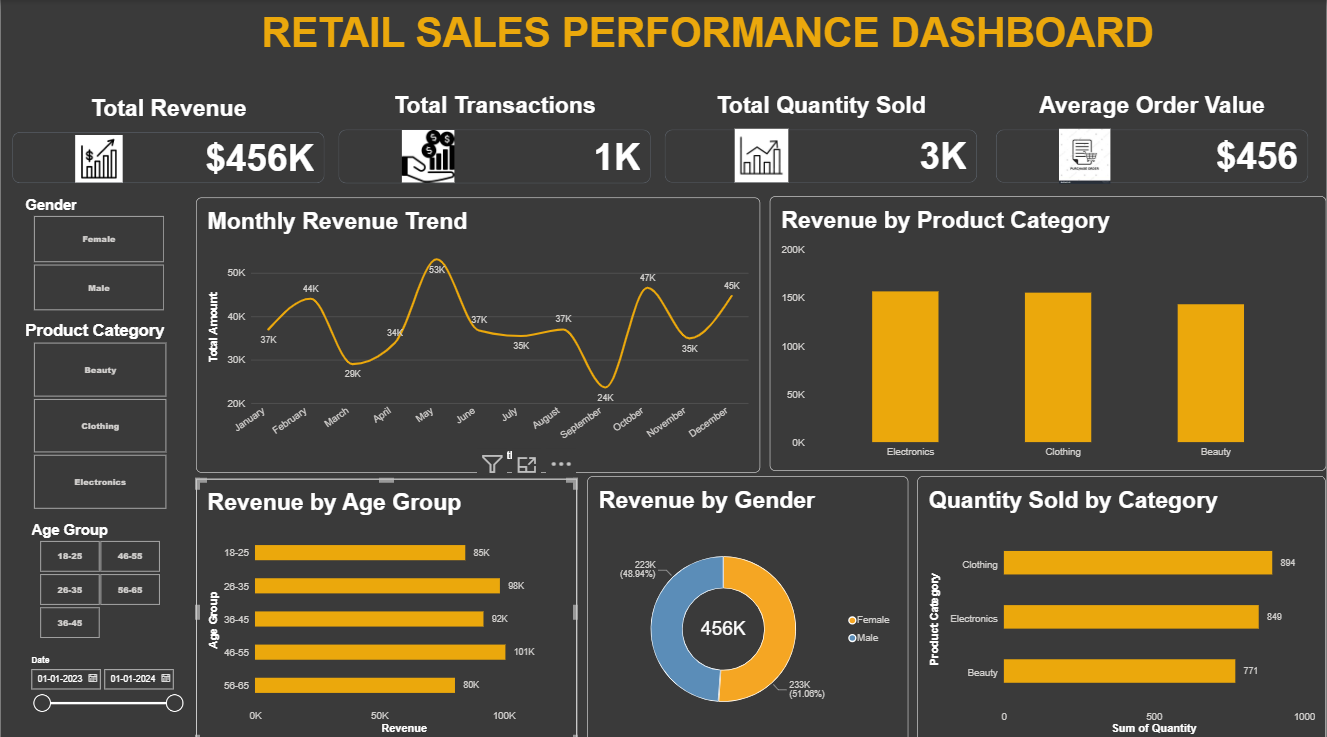

The page's visual inventory and layout, read from the dashboard file:
{"tool":"powerbi","page":{"name":"Page 1","canvas":[1920,1080],"ordinal":0},"visuals":[{"type":"cardVisual","title":"Total Revenue","fields":{"Data":["cleaned_retail_sales_dataset.Total Revenue"]},"box":[16.5,137.9,452.8,127.6],"z":0},{"type":"cardVisual","title":"Total Transactions","fields":{"Data":["cleaned_retail_sales_dataset.Total Transactions"]},"box":[487.8,133.8,452.8,131.7],"z":1000},{"type":"cardVisual","title":"Total Quantity Sold","fields":{"Data":["cleaned_retail_sales_dataset.Total Quantity Sold"]},"box":[961.2,133.8,452.8,131],"z":2000},{"type":"cardVisual","title":"Average Order Value","fields":{"Data":["cleaned_retail_sales_dataset.Average Order Value"]},"box":[1440.8,133.8,452,131],"z":3000},{"type":"textbox","box":[0,0,1920.4,127.6],"z":4000},{"type":"lineChart","title":"Monthly Revenue Trend","fields":{"Category":["cleaned_retail_sales_dataset.Date.Variation.Date Hierarchy.Month","cleaned_retail_sales_dataset.Date.Variation.Date Hierarchy.Day"],"Y":["Sum(cleaned_retail_sales_dataset.Total Amount)"]},"box":[282.5,286.3,817.1,398.1],"z":5000},{"type":"clusteredColumnChart","title":"Revenue by Product Category","fields":{"Category":["cleaned_retail_sales_dataset.Product Category"],"Y":["Sum(cleaned_retail_sales_dataset.Total Amount)"]},"box":[1112.8,284.4,806.8,397.7],"z":6000},{"type":"donutChart","title":"Revenue by Gender","fields":{"Y":["Sum(cleaned_retail_sales_dataset.Total Amount)"],"Category":["cleaned_retail_sales_dataset.Gender"]},"box":[849.3,690,464.5,390.5],"z":7000},{"type":"barChart","title":"Quantity Sold by Category","fields":{"Category":["cleaned_retail_sales_dataset.Product Category"],"Y":["Sum(cleaned_retail_sales_dataset.Quantity)"]},"box":[1327.3,688.6,593.2,390.9],"z":8000},{"type":"slicer","fields":{"Values":["cleaned_retail_sales_dataset.Gender"]},"box":[26.5,284.4,227.5,166.8],"z":9000},{"type":"slicer","fields":{"Values":["cleaned_retail_sales_dataset.Product Category"]},"box":[26.5,464.5,231.3,273],"z":10000},{"type":"slicer","fields":{"Values":["cleaned_retail_sales_dataset.Date"]},"box":[36,947.9,231.3,132.7],"z":11000},{"type":"clusteredBarChart","title":"Revenue by Age Group","fields":{"Category":["cleaned_retail_sales_dataset.Age Group"],"Y":["Sum(cleaned_retail_sales_dataset.Total Amount)"]},"box":[282.5,693.8,551.7,386.7],"z":12000},{"type":"slicer","fields":{"Values":["cleaned_retail_sales_dataset.Age Group"]},"box":[36,754.5,212.3,170.6],"z":13000},{"type":"image","box":[70.6,195.4,143,68.8],"z":14000},{"type":"image","box":[521.2,188.2,193.6,76],"z":15000},{"type":"image","box":[1013.4,186.4,175.5,77.8],"z":16000},{"type":"image","box":[1440.5,186.4,257,79.6],"z":17000}]}

Visuals, with their boxes in screenshot pixels (x1, y1, x2, y2), scaled from the page's 1920x1080 canvas onto the 1327x737 screenshot:
"Total Revenue" cardVisual: 11:94:324:181
"Total Transactions" cardVisual: 337:91:650:181
"Total Quantity Sold" cardVisual: 664:91:977:181
"Average Order Value" cardVisual: 996:91:1308:181
textbox: 0:0:1326:87
"Monthly Revenue Trend" lineChart: 195:195:760:467
"Revenue by Product Category" clusteredColumnChart: 769:194:1326:465
"Revenue by Gender" donutChart: 587:471:908:736
"Quantity Sold by Category" barChart: 917:470:1326:736
slicer - cleaned_retail_sales_dataset.Gender: 18:194:176:308
slicer - cleaned_retail_sales_dataset.Product Category: 18:317:178:503
slicer - cleaned_retail_sales_dataset.Date: 25:647:185:736
"Revenue by Age Group" clusteredBarChart: 195:473:577:736
slicer - cleaned_retail_sales_dataset.Age Group: 25:515:172:631
image: 49:133:148:180
image: 360:128:494:180
image: 700:127:822:180
image: 996:127:1173:182
